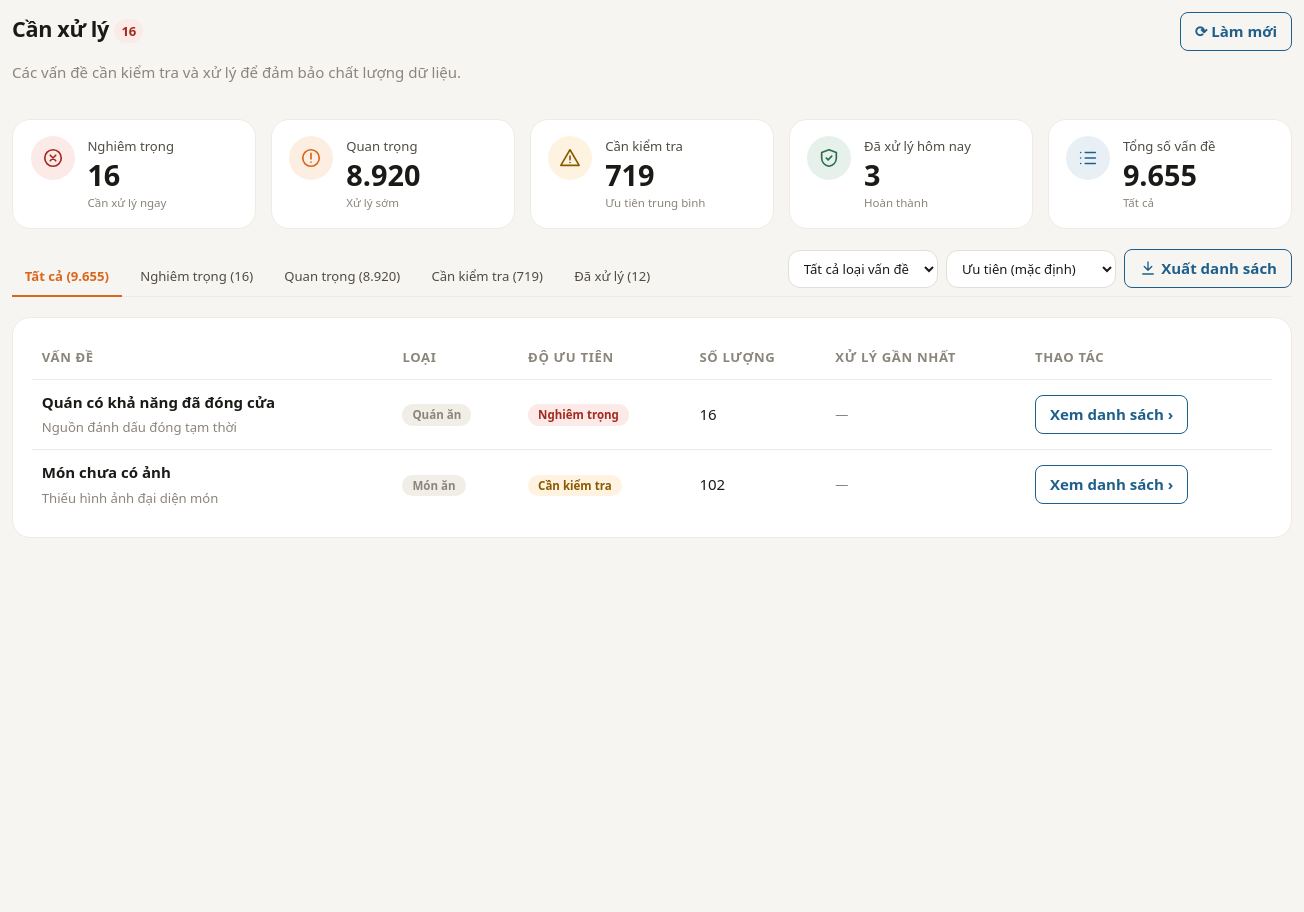
Scenario: Man "Can xu ly" › mo mot nhom thi hien ban ghi cu the, dong da xong van HIEN
Click the button "Xem danh sách ›" in the row of "Quán có khả năng đã đóng cửa" at point(1112, 414), box [1035,395,1188,434]
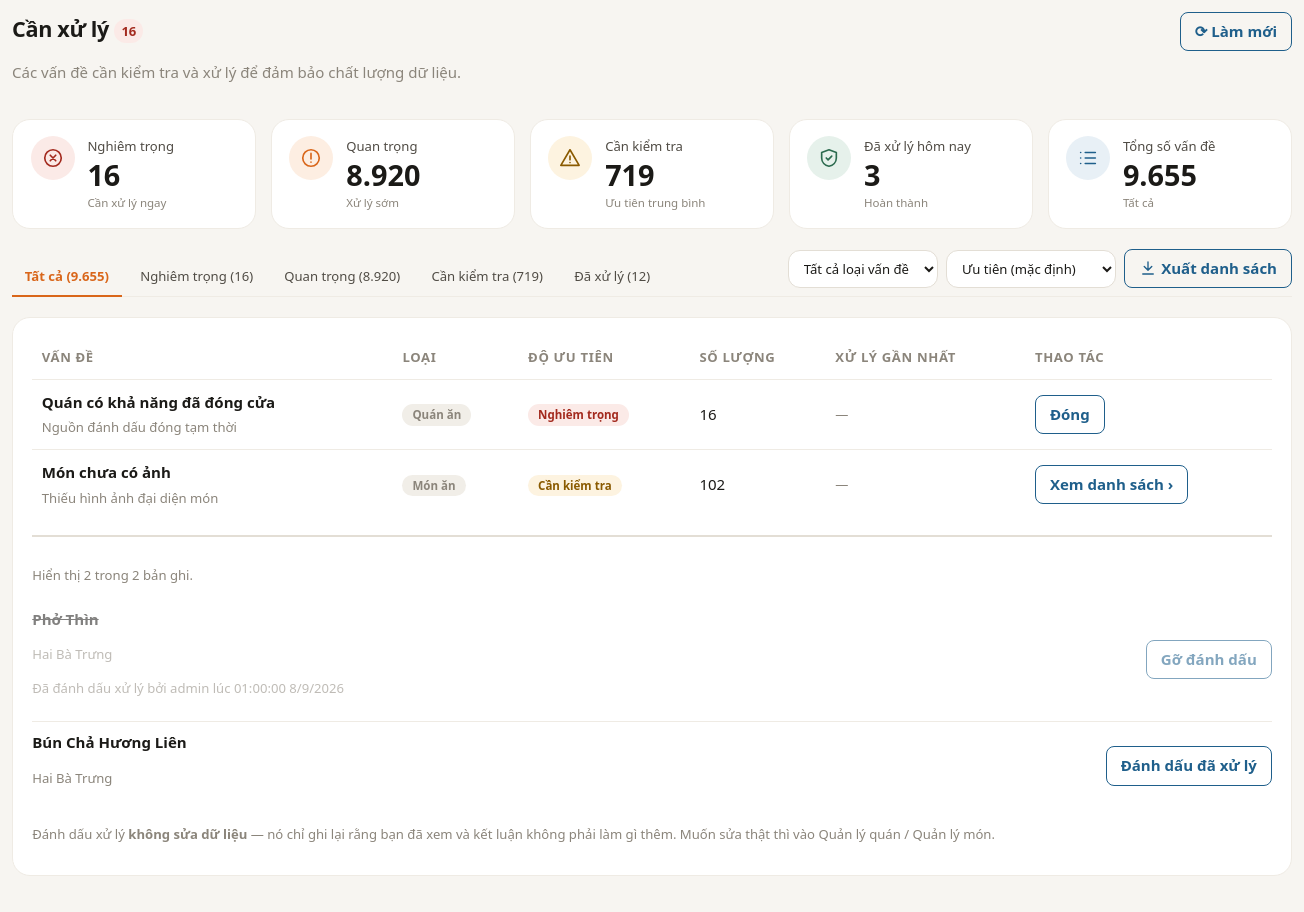
Now the text "Phở Thìn" is shown, box [32,609,99,629]
Now the button "Gỡ đánh dấu" is shown, box [1146,640,1272,679]
Now the button "Đánh dấu đã xử lý" is shown, box [1106,746,1272,786]
